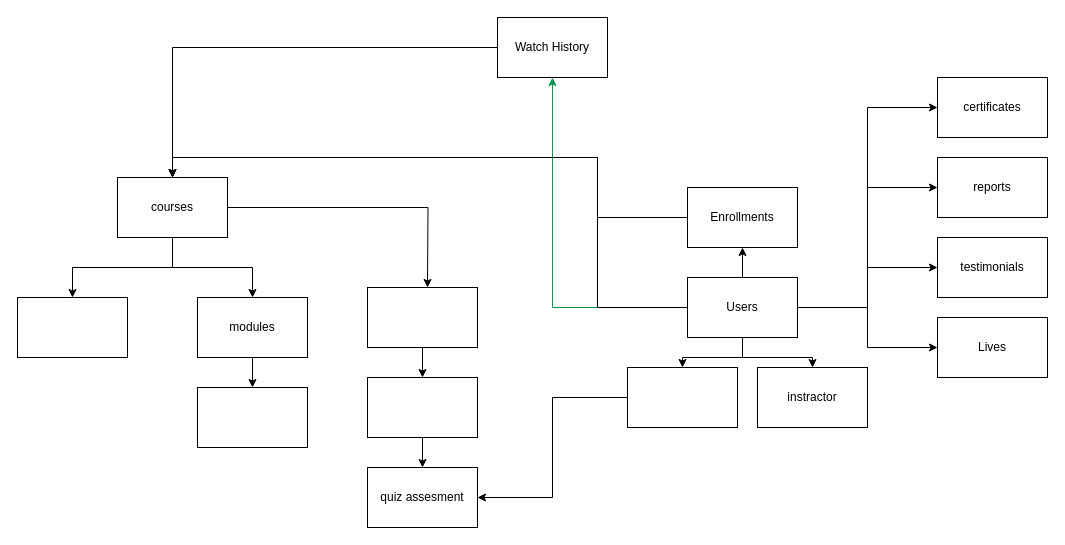
Image size: 1065x545. Some labels were removed from this diagram. The shapes that lost their labels are listed below. From the top down, each one's box as (x1, y1, x2, y2) in pixels, then its label:
(16, 296, 128, 358): categories
(366, 286, 478, 348): Quizsets
(196, 386, 308, 448): lessons
(366, 376, 478, 438): Quizzes
(626, 366, 738, 428): Student
